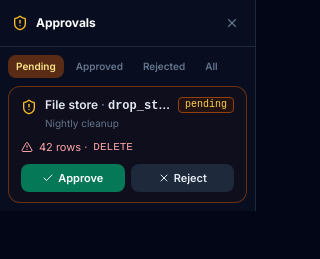
Test: ApprovalsPanel › surfaces a failed decision instead of silently dropping it
This screenshot has width=320, height=259.
Click the button "Approve" at x=73, y=178, box x1=21 y1=164 x2=124 y2=192
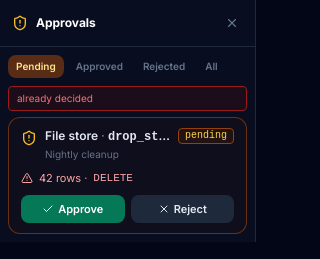
Now the text "already decided" is shown, box x1=8 y1=86 x2=247 y2=111
